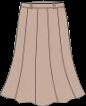Hemline: (0, 92, 85, 105)
Waistline: (20, 5, 65, 9), (20, 2, 64, 4)
